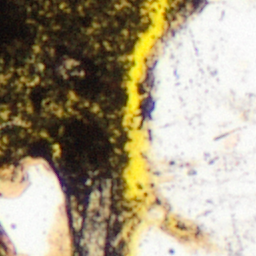cement_matrix: (0, 0, 146, 255), (168, 0, 202, 17), (90, 191, 107, 217), (0, 225, 13, 255), (140, 84, 150, 115)
cracks: (118, 0, 207, 255), (161, 214, 202, 240), (139, 83, 151, 116)
gravel_crushed_stones: (132, 0, 255, 255), (0, 163, 64, 255), (160, 213, 203, 241), (83, 221, 104, 255), (91, 192, 106, 216)
